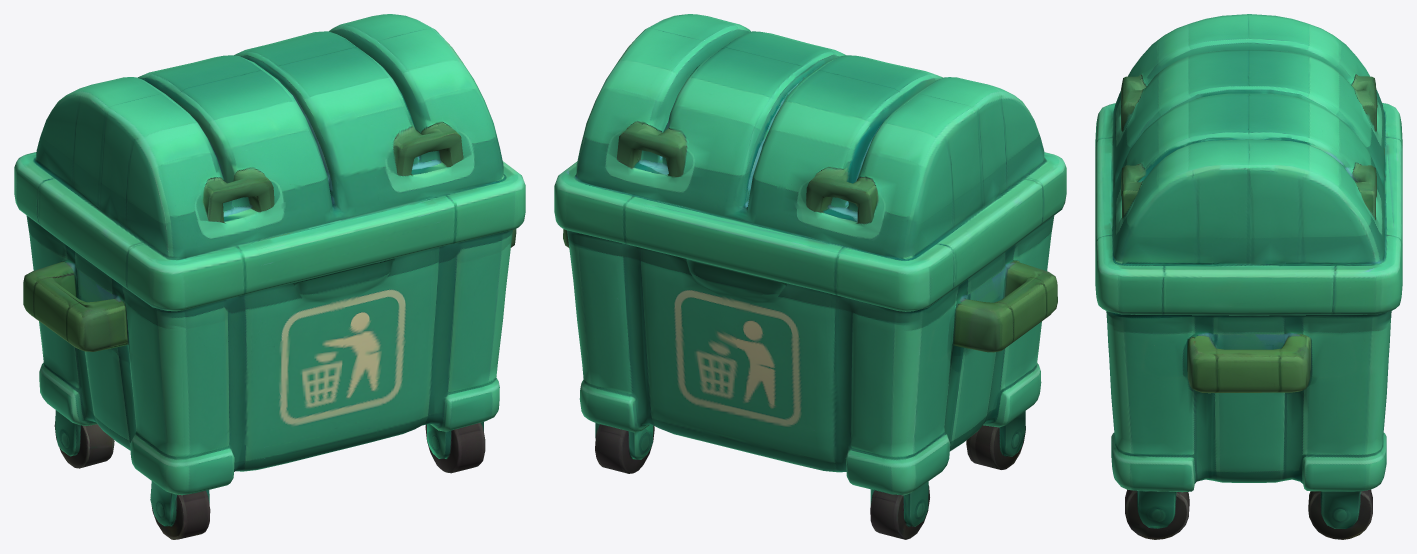
File: dumpster.glb
The picture shows the model from 3 angles, left to right: view 1: azimuth 30°, elevation 25°; view 2: azimuth 150°, elevation 25°; view 3: azimuth 270°, elevation 25°; orthographic projection. The views are drawn at different scales.
Size of the model in its own units: 1.91 by 1.66 by 1.21.
Materials: 1 (1 with a texture image).
